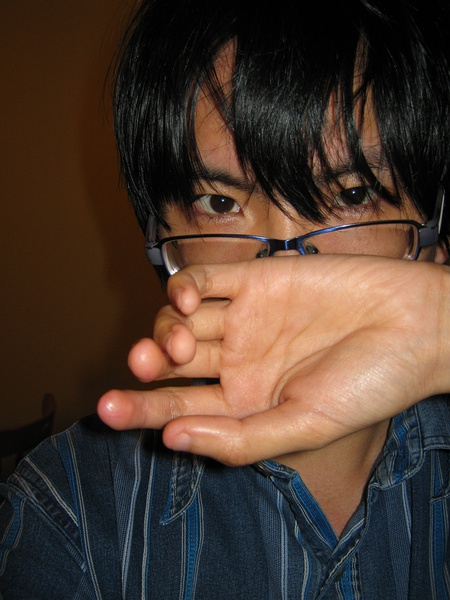face: (171, 27, 414, 426)
